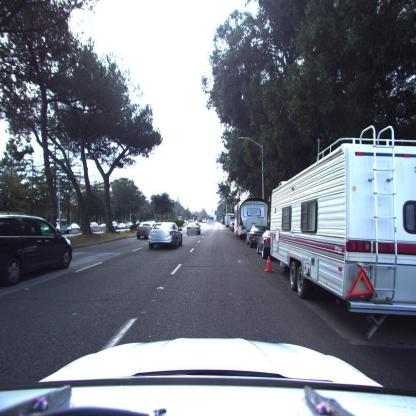car: (0, 212, 74, 288), (148, 223, 183, 250), (255, 230, 273, 261), (244, 225, 266, 248), (59, 223, 82, 236), (138, 222, 154, 238), (186, 223, 200, 236), (125, 221, 134, 230), (116, 223, 127, 230), (111, 221, 118, 231)
truck: (263, 110, 416, 332), (234, 199, 266, 241), (224, 214, 234, 230), (208, 216, 214, 224)
